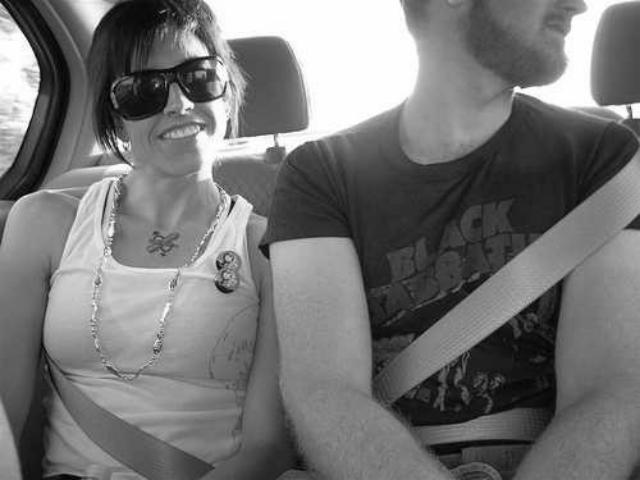Seatbelt: (364, 138, 640, 480)
